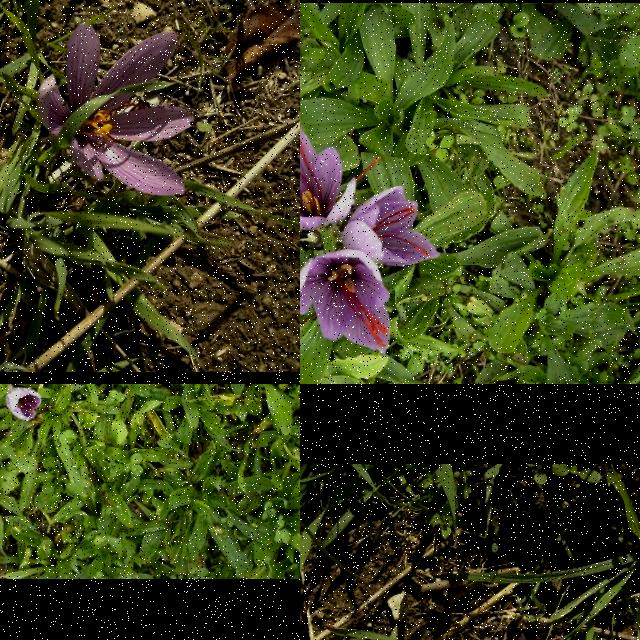flower: (36, 23, 194, 197), (300, 249, 391, 354), (300, 118, 383, 232), (341, 186, 441, 268), (5, 386, 42, 422)
